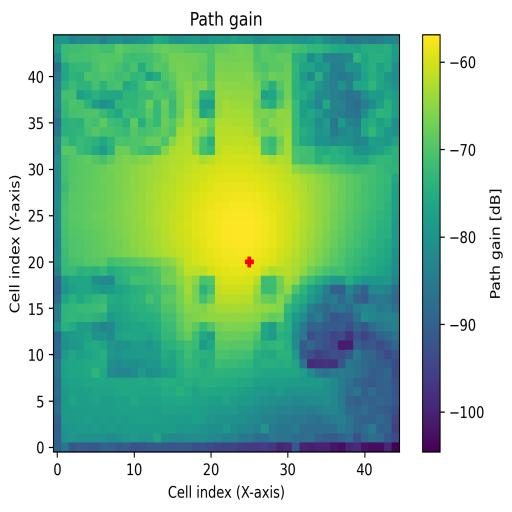Concrete: (292, 55, 377, 165)
Glass: (94, 54, 184, 155)
Metal: (285, 276, 377, 370)
Wood: (107, 259, 184, 378)
